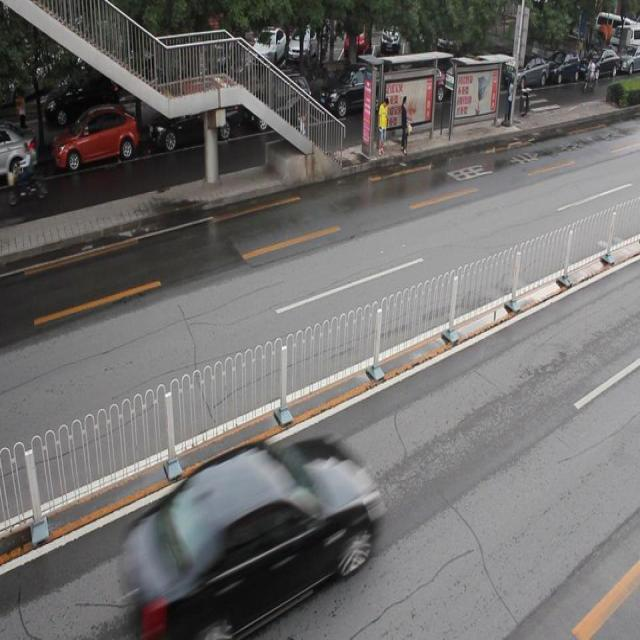car: (119, 432, 381, 640), (54, 108, 140, 168), (150, 94, 241, 149), (248, 73, 314, 133), (319, 66, 389, 119), (1, 125, 40, 182)
